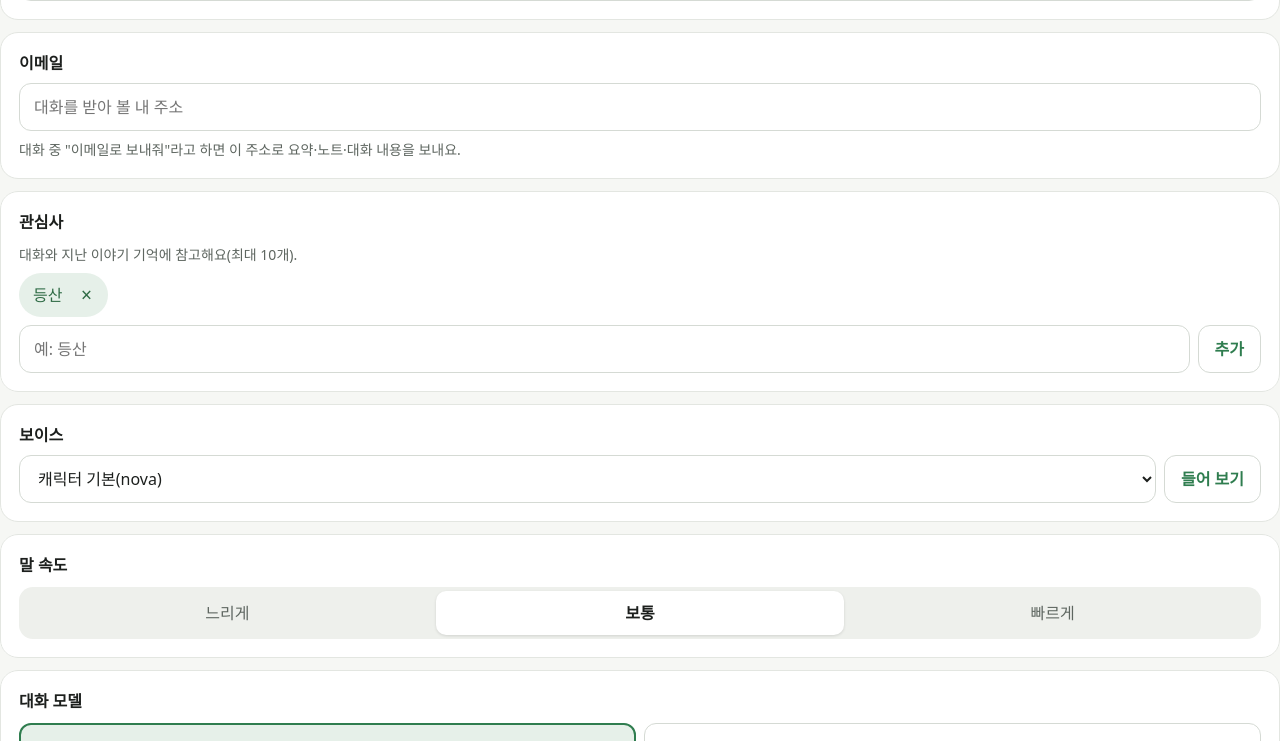
SettingsScreen › 이메일 모양이 아니면 보내지 않고 알린다
This screenshot has width=1280, height=741.
Step 1. Type "plain" into the field labelled "이메일" → (640, 107), box [19,83,1261,131]
(page scrolled)
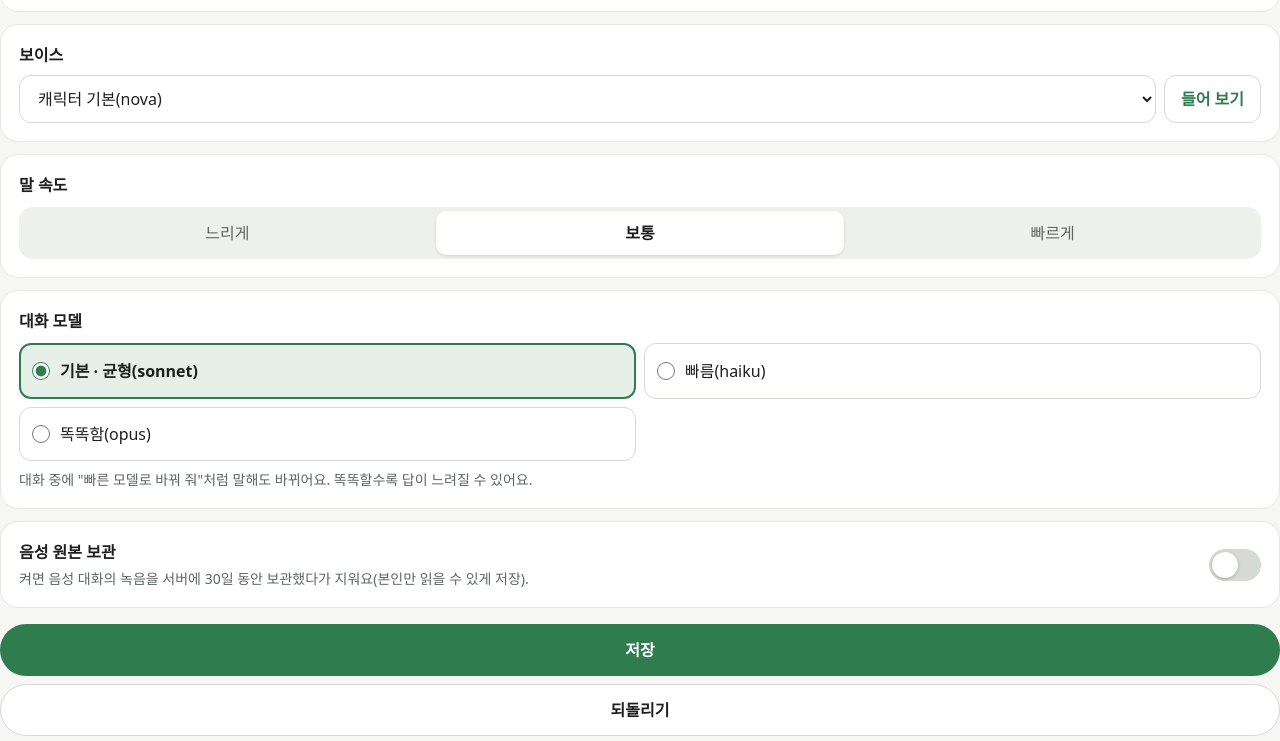
Step 2. Click the button "저장" → (640, 650), box [0,624,1279,676]
(page scrolled)
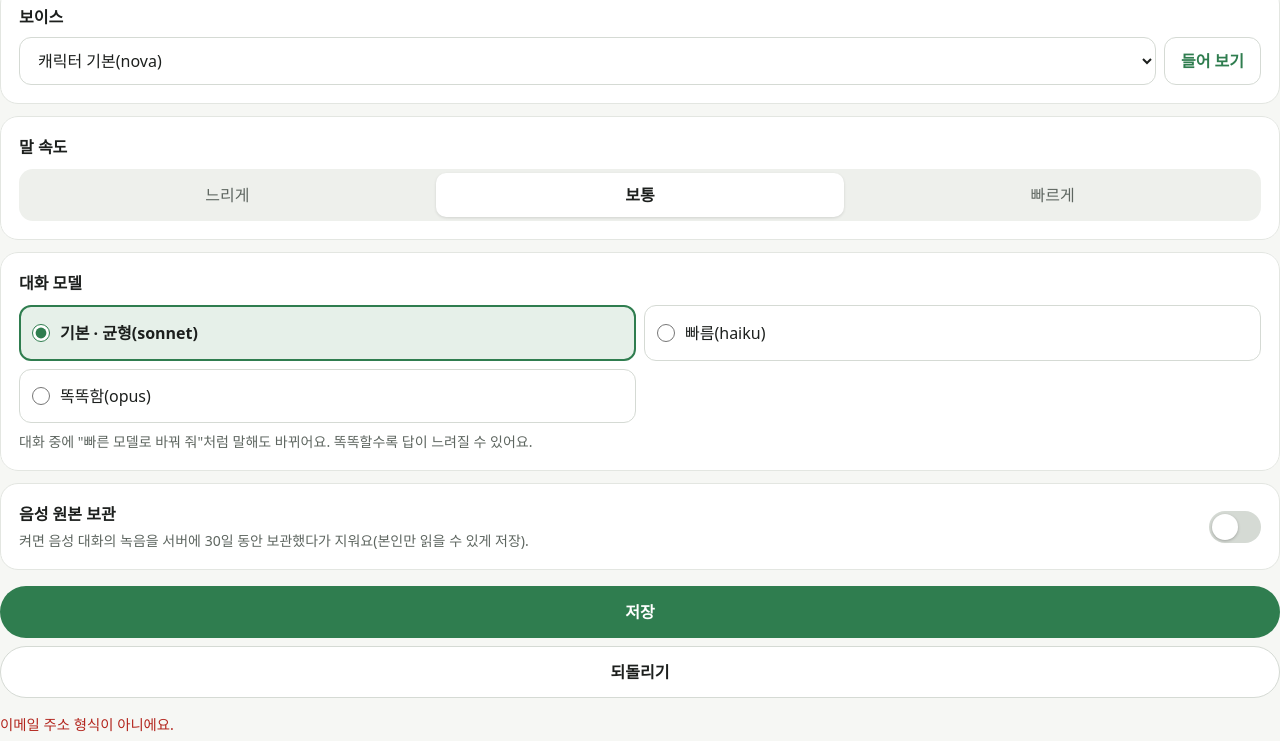
Result: the message shows "이메일 주소 형식" at [0,715,174,734]
